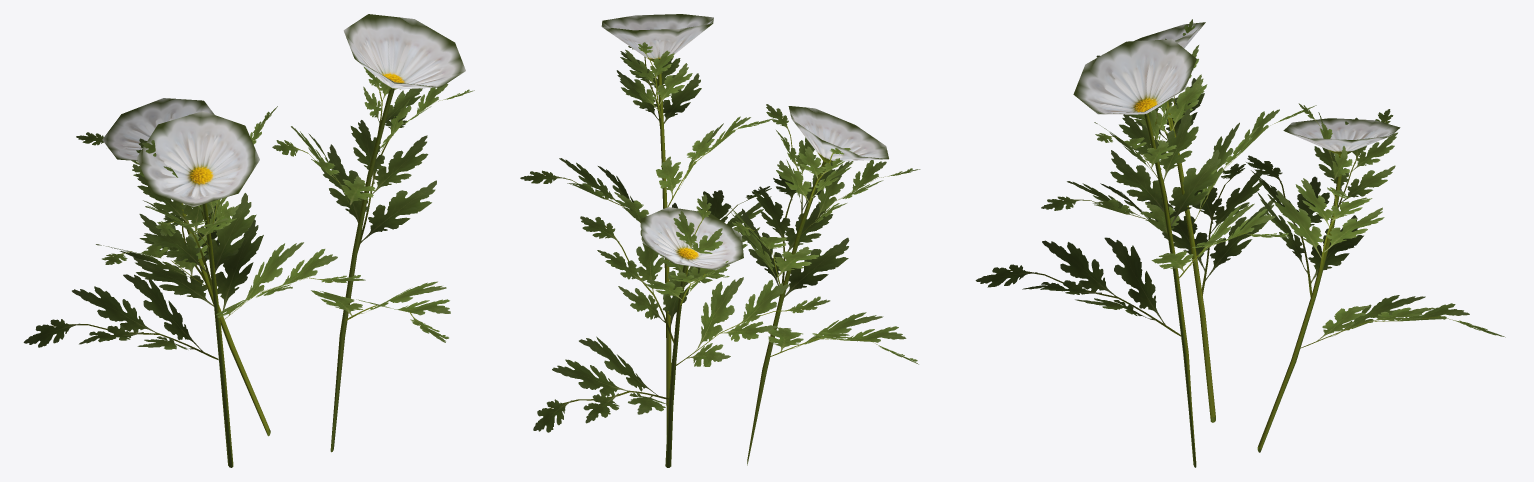
The model's file is daisy.fbx.
3 views of the same model, side by side, from view 1: azimuth 30°, elevation 25°; view 2: azimuth 150°, elevation 25°; view 3: azimuth 270°, elevation 25° (orthographic). The views are drawn at different scales.
Visible parts, largest first — view 1: daisy leaf_2, flower daisy_1, plant05_0; view 2: daisy leaf_2, flower daisy_1, plant05_0; view 3: daisy leaf_2, flower daisy_1, plant05_0.
Part boxes in pixels (<box>): daisy leaf_2: <box>23,67,474,360</box>; flower daisy_1: <box>102,14,465,206</box>; plant05_0: <box>181,84,400,467</box>; daisy leaf_2: <box>520,42,920,432</box>; flower daisy_1: <box>601,14,888,270</box>; plant05_0: <box>647,58,832,467</box>; daisy leaf_2: <box>975,19,1505,348</box>; flower daisy_1: <box>1073,22,1400,151</box>; plant05_0: <box>1143,101,1352,467</box>.
Size of the model in its own units: 86.15 by 85.54 by 101.
3 materials, 3 textured.
